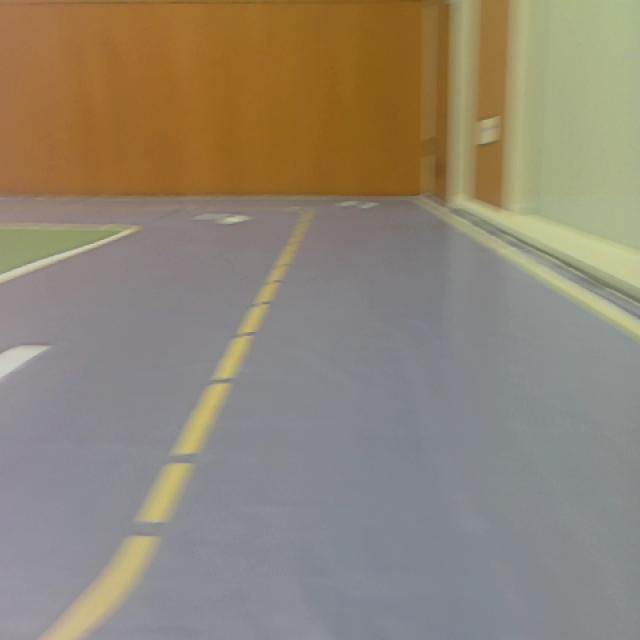left_lane: (101, 212, 313, 572)
right_lane: (416, 200, 640, 341)
